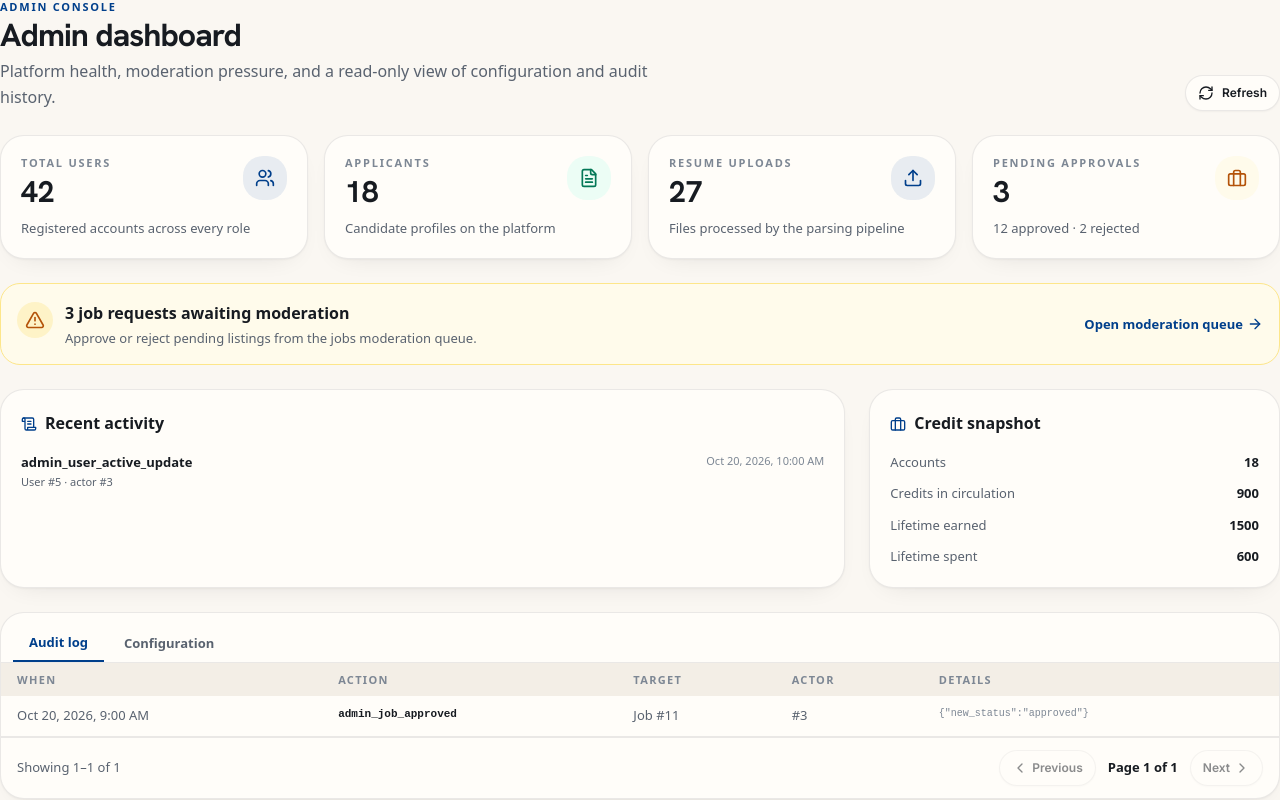
Test case: AdminDashboardPage › lists recent activity and switches between the full audit log and read-only config tabs
This screenshot has width=1280, height=800.
Expected: the text "admin_user_active_update" is shown, [21,453,192,472]
Click the tab "Configuration": (169, 643) [108,625,230,662]
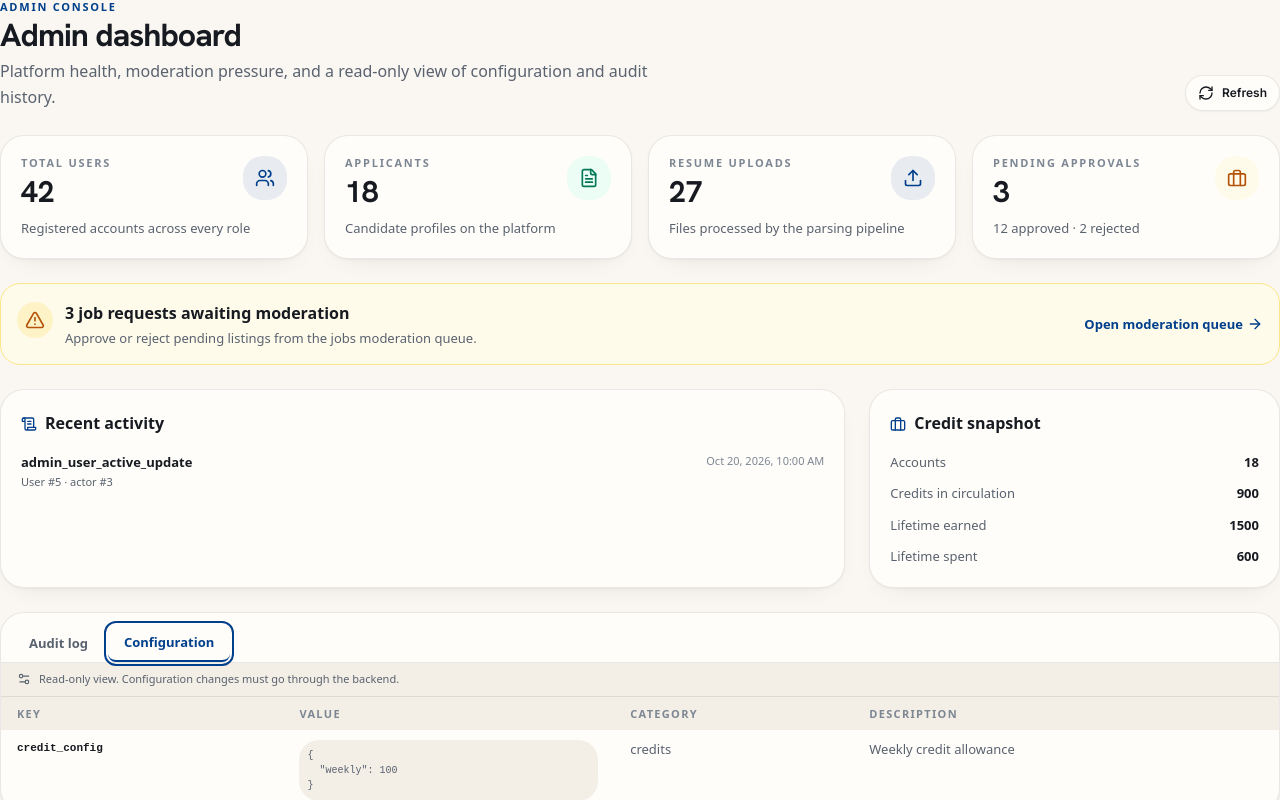
Expected: the text "read-only view" is shown, [0,60,648,108]
Click the tab "Audit log": (58, 643) [13,625,104,662]
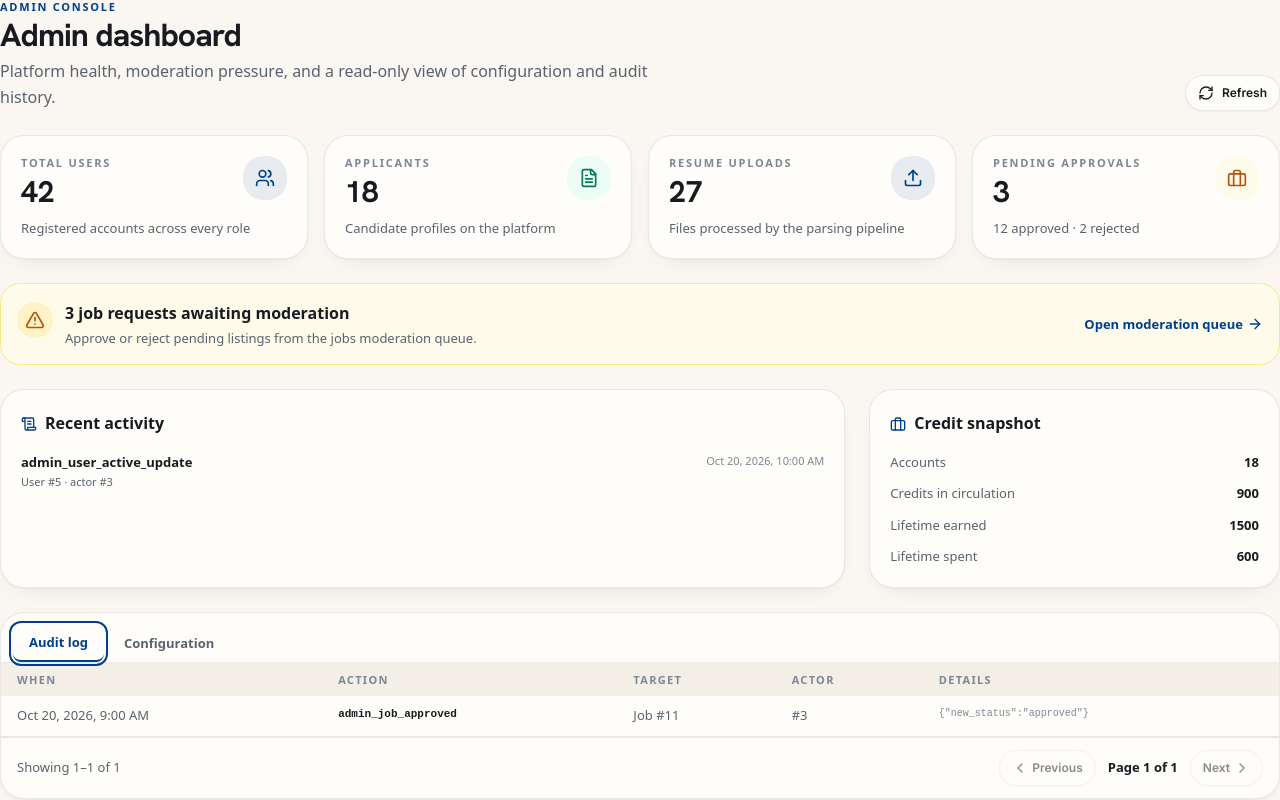
Expected: the text "admin_job_approved" is shown, [322,696,617,736]
Expected: the text "{\"new_status\":\"approved\"}" is shown, [939,708,1089,719]
